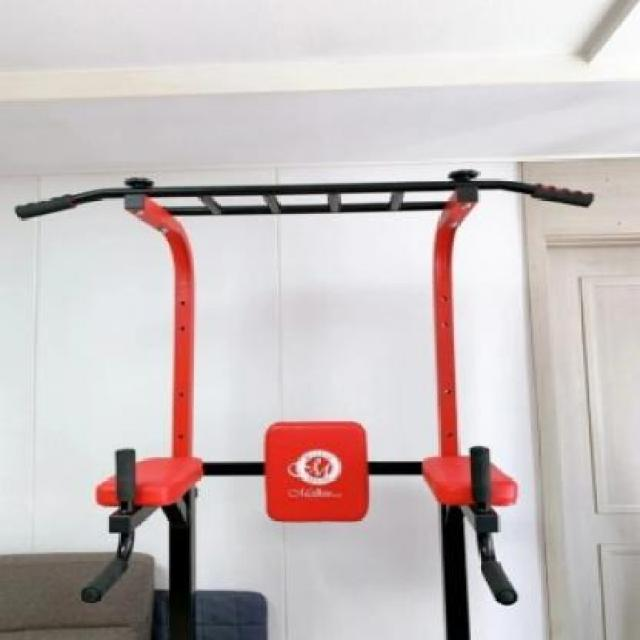chinning dipping: (15, 167, 593, 640)
